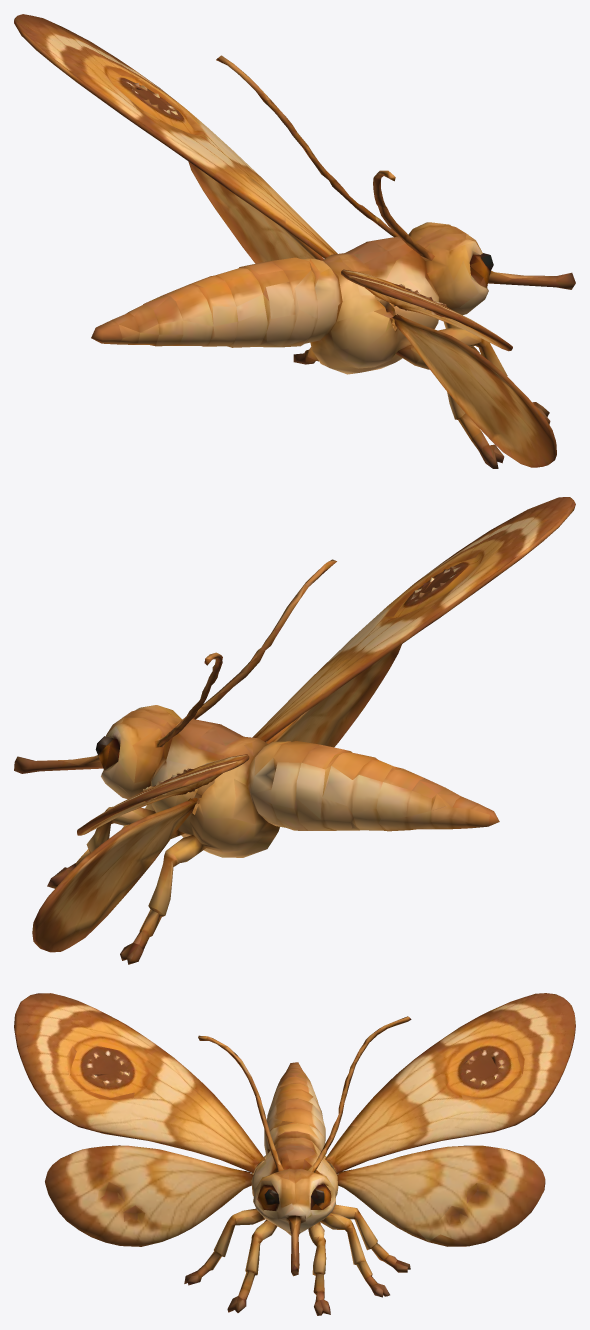
The model's file is butterfly.glb.
3 renders of one model, top to bottom at view 1: azimuth 30°, elevation 25°; view 2: azimuth 150°, elevation 25°; view 3: azimuth 270°, elevation 25°, orthographic. The views are drawn at different scales.
Visible parts, largest first — view 1: Body, WingL, WingR; view 2: Body, WingR, WingL; view 3: WingL, WingR, Body.
Boxes of the visible parts, x1,y1,x2,y2 form: Body: [91, 55, 575, 468]; WingL: [14, 14, 337, 263]; WingR: [341, 269, 556, 467]; Body: [14, 559, 499, 964]; WingR: [252, 497, 575, 747]; WingL: [32, 754, 249, 952]; WingL: [325, 993, 575, 1246]; WingR: [14, 993, 265, 1246]; Body: [184, 1016, 411, 1315].
Size of the model in its own units: 0.2501 by 0.161 by 0.36.
Materials: 1 (1 with a texture image).
